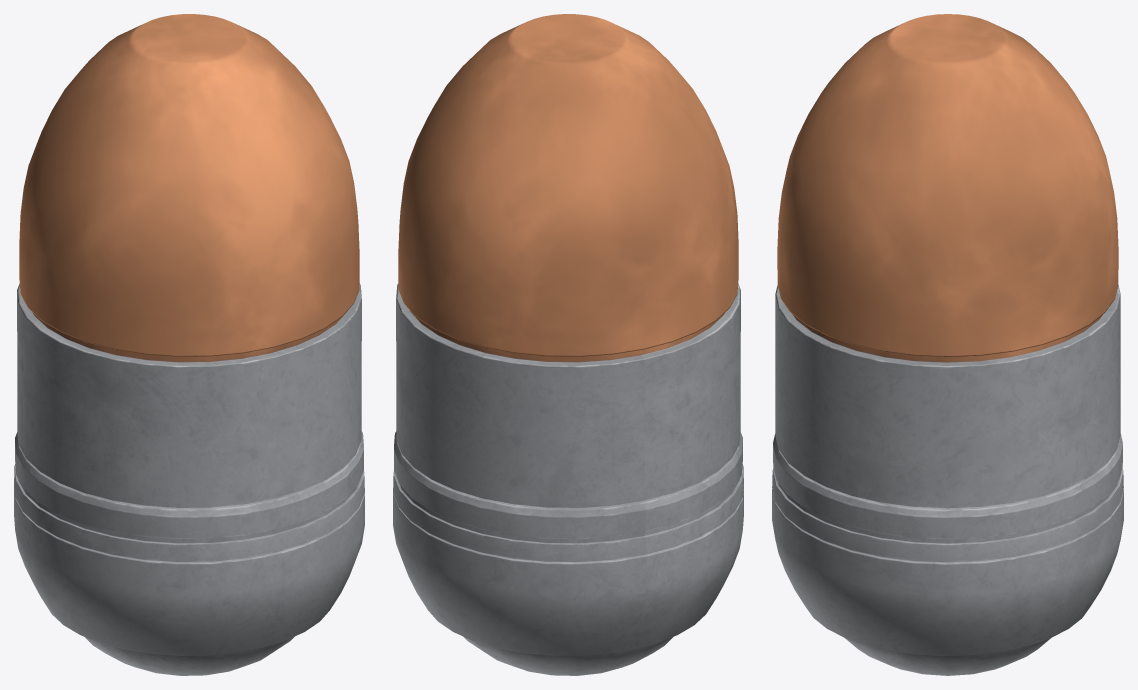
Rendered from grenade-2-2.gltf.
3 views of the same model, side by side, from view 1: azimuth 30°, elevation 25°; view 2: azimuth 150°, elevation 25°; view 3: azimuth 270°, elevation 25° (orthographic).
Parts seen in each view (by area): view 1: pSphere1001; view 2: pSphere1001; view 3: pSphere1001.
Boxes of the visible parts, x1,y1,x2,y2 form: pSphere1001: [14, 14, 364, 675]; pSphere1001: [393, 14, 743, 675]; pSphere1001: [772, 14, 1123, 675].
Bounding box in the file's own units: 40 × 78 × 40.
Materials: 1 (1 with a texture image).
